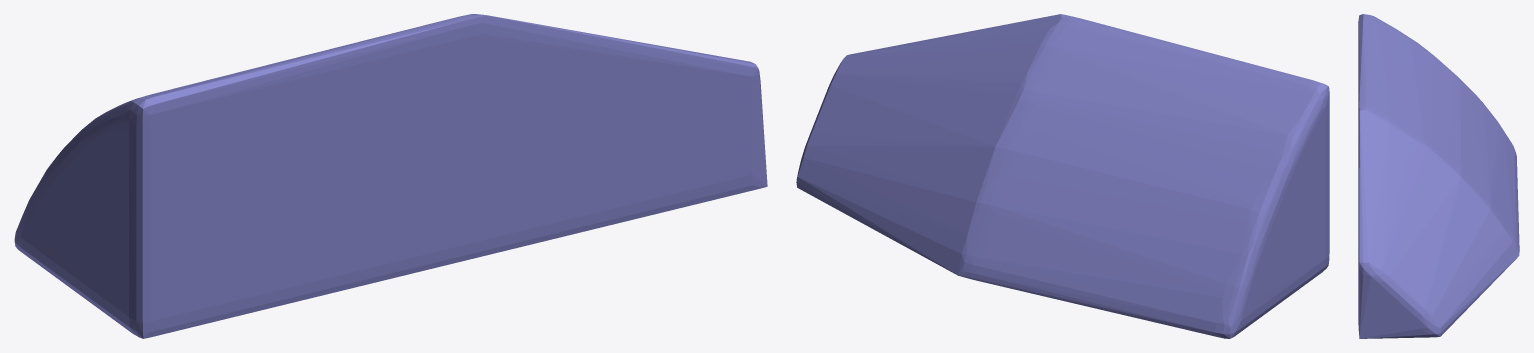
The model's file is left_shoulder_pitch_link_part_12.obj.
3 views of the same model, side by side, from view 1: azimuth 30°, elevation 25°; view 2: azimuth 150°, elevation 25°; view 3: azimuth 270°, elevation 25° (orthographic). The views are drawn at different scales.
Size of the model in its own units: 0.0583 by 0.0215 by 0.0214.
